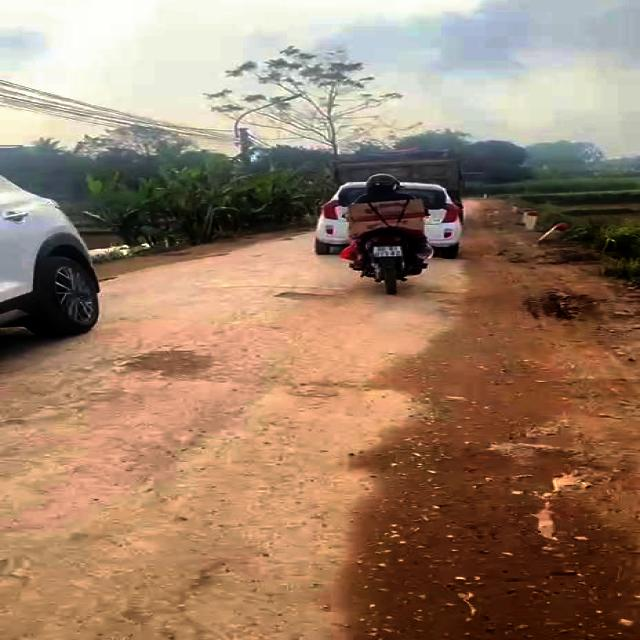pothole: (123, 347, 219, 384), (274, 290, 344, 306)
